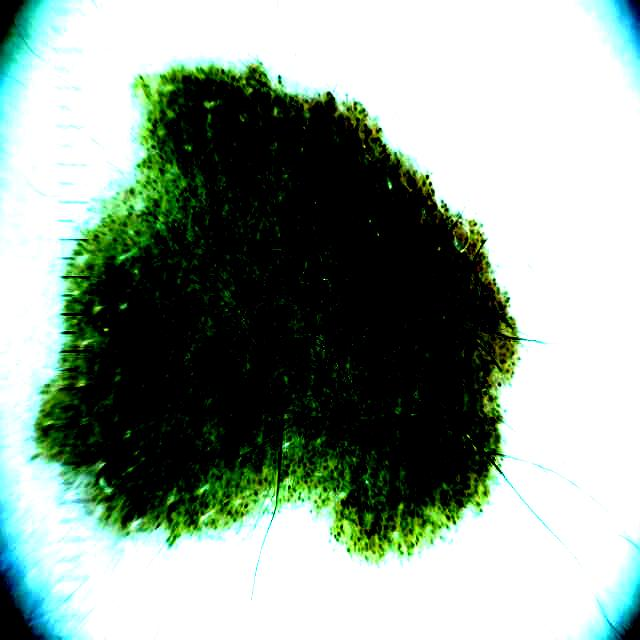BCC: (36, 65, 518, 561)
